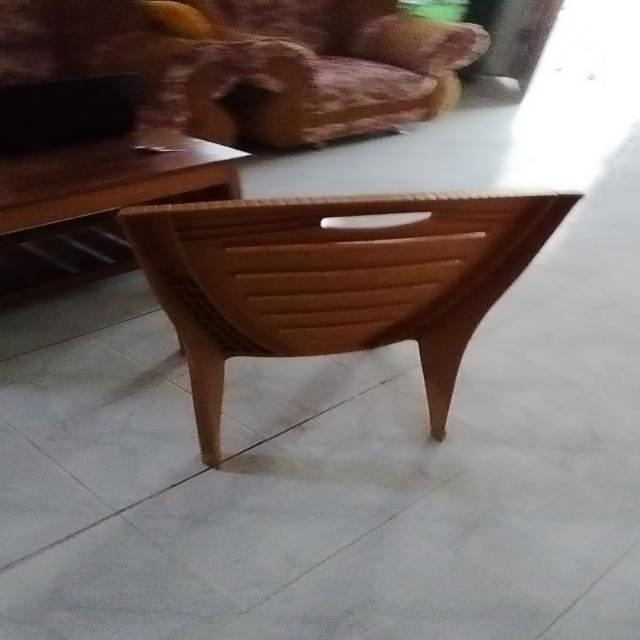chair: (109, 188, 586, 487)
